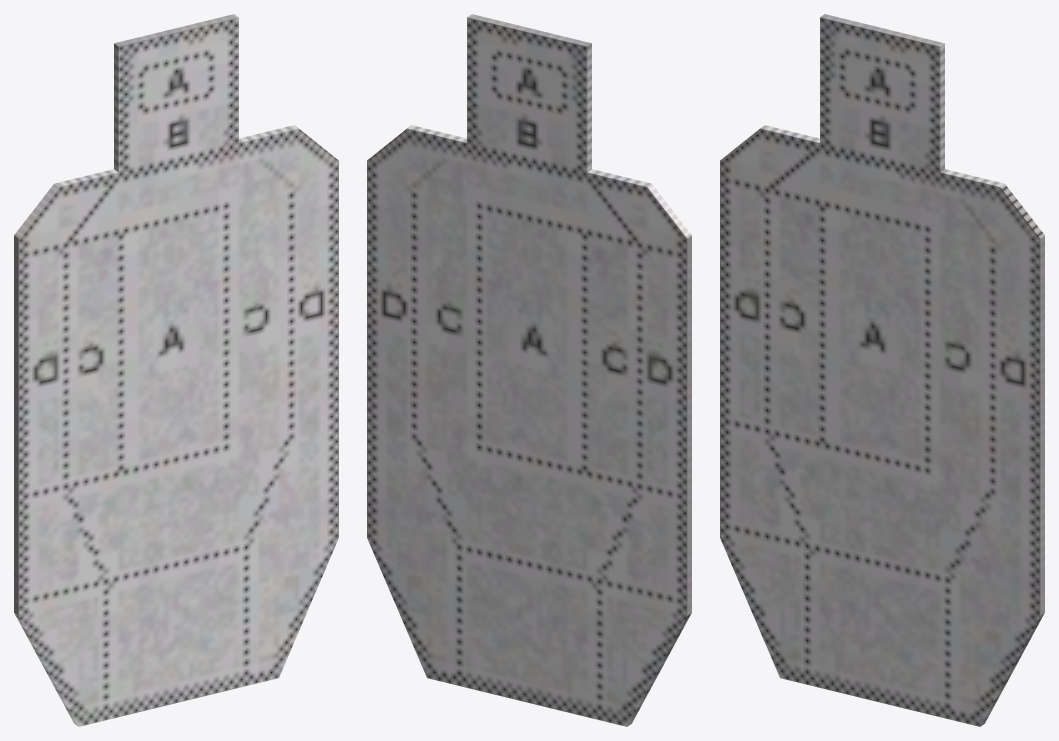
The model's file is TARGET_ENEMY.glb.
The picture shows the model from 3 angles, left to right: view 1: azimuth 30°, elevation 25°; view 2: azimuth 150°, elevation 25°; view 3: azimuth 330°, elevation 25°; orthographic projection.
Parts seen in each view (by area): view 1: TARGET_ENEMY; view 2: TARGET_ENEMY; view 3: TARGET_ENEMY.
Part boxes in pixels (x1,y1,x2,y2): TARGET_ENEMY: (14, 14, 338, 726); TARGET_ENEMY: (367, 14, 691, 726); TARGET_ENEMY: (720, 14, 1044, 726).
Size of the model in its own units: 0.8 by 1.6 by 0.02.
1 material, 1 textured.
